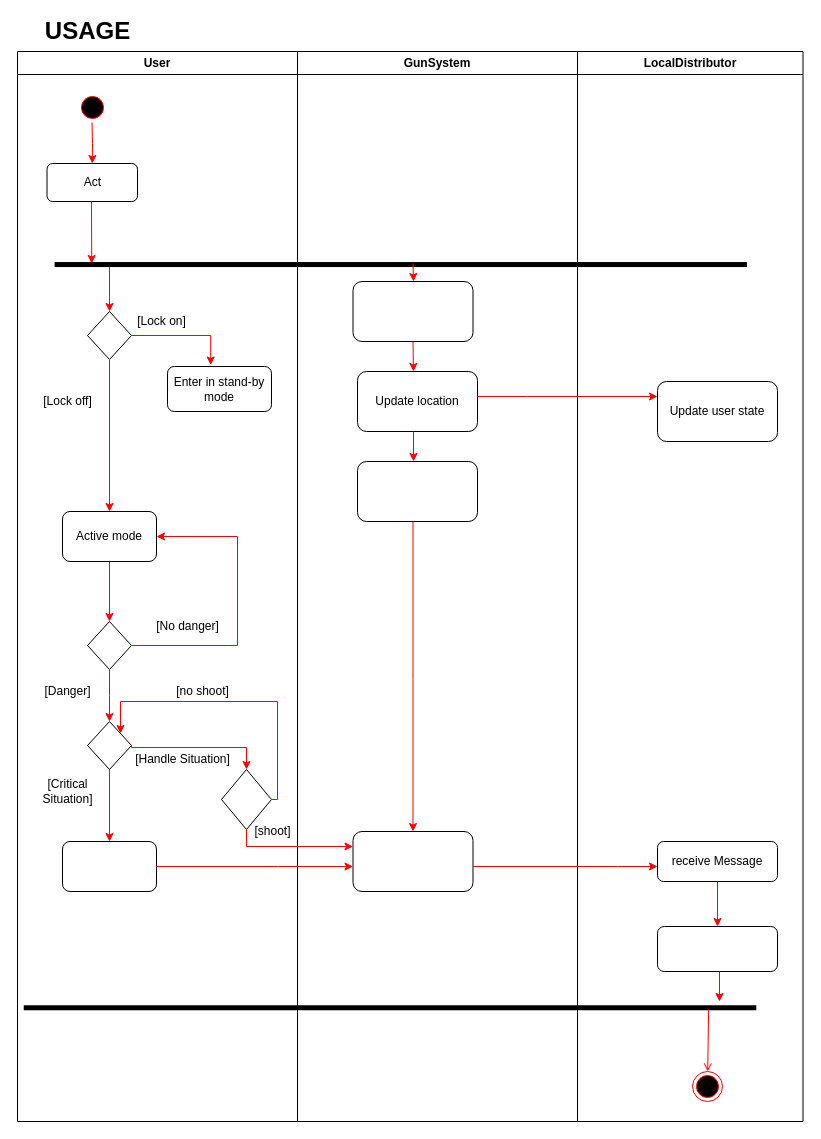
The diagram is 821 pixels wide and 1139 high, and some of its shapes have lost their labels. Here are the shapes that lost their labels. From the top down, the centre of each, then its label:
At point 412,311: "Control Battery Level".
At point 417,491: "LCD Display".
At point 109,866: "Press Backup Button".
At point 412,861: "create Message".
At point 717,949: "send Backup Team".
